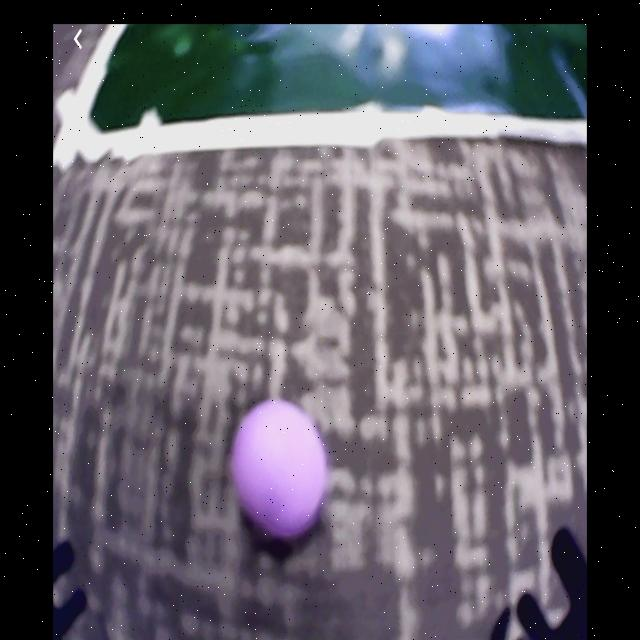ball: (229, 403, 328, 537)
